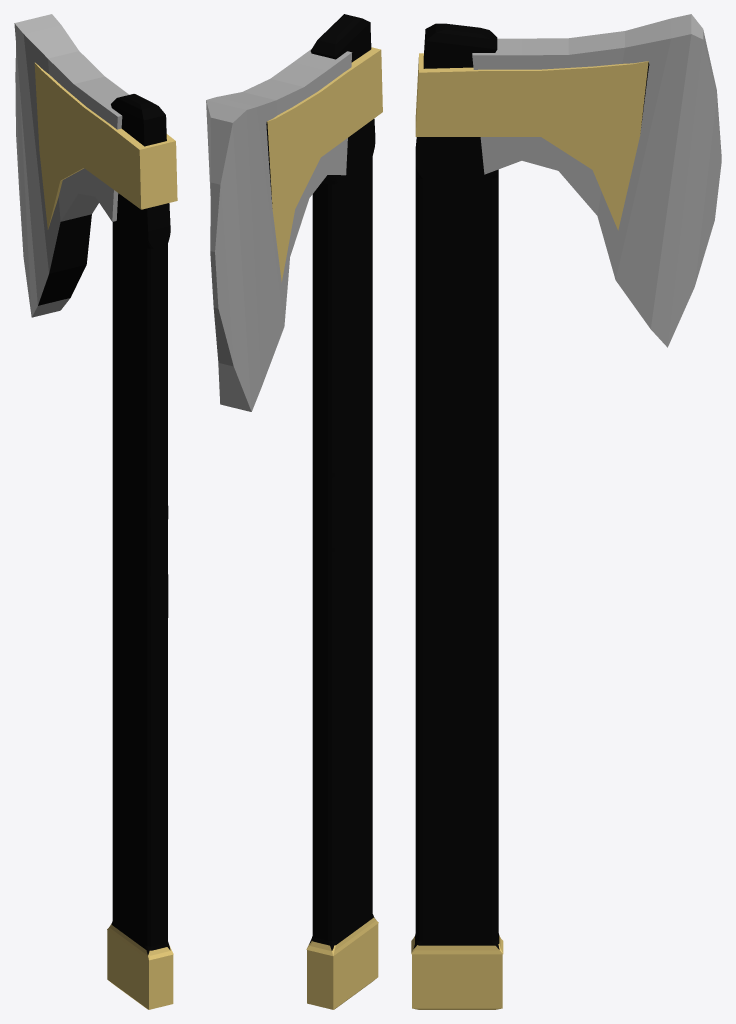
File: weapon_2.fbx
3 views of the same model, side by side, from view 1: azimuth 30°, elevation 25°; view 2: azimuth 150°, elevation 25°; view 3: azimuth 270°, elevation 25° (orthographic). The views are drawn at different scales.
Parts seen in each view (by area): view 1: Cube; view 2: Cube; view 3: Cube.
Part boxes in pixels (x1=…): Cube: x1=14, y1=14, x2=177, y2=1009; Cube: x1=206, y1=14, x2=382, y2=1009; Cube: x1=411, y1=14, x2=721, y2=1009.
Size of the model in its own units: 22.23 by 507 by 146.
